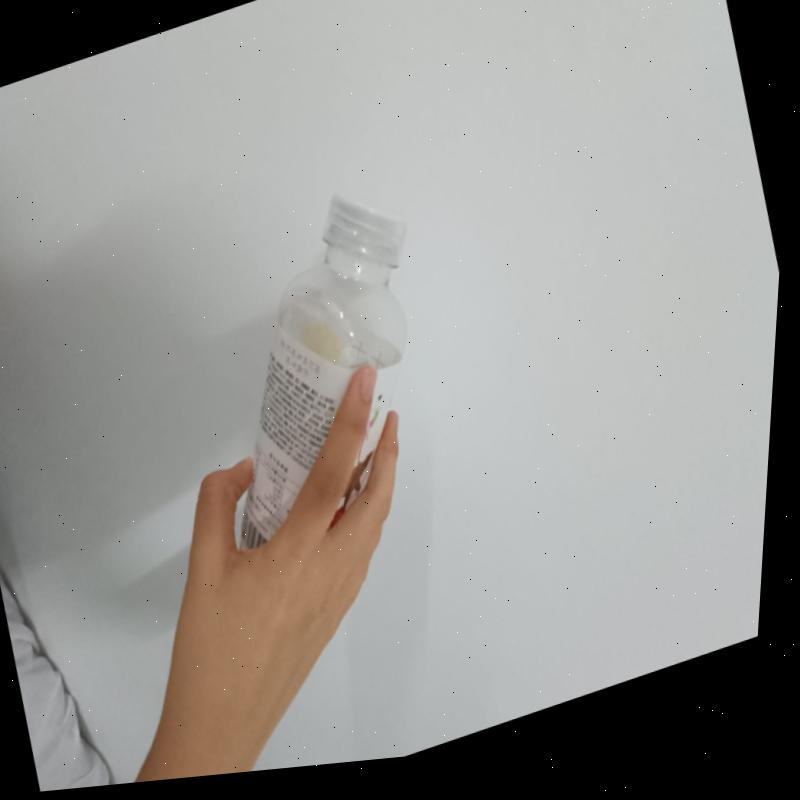botella: (171, 173, 475, 556)
